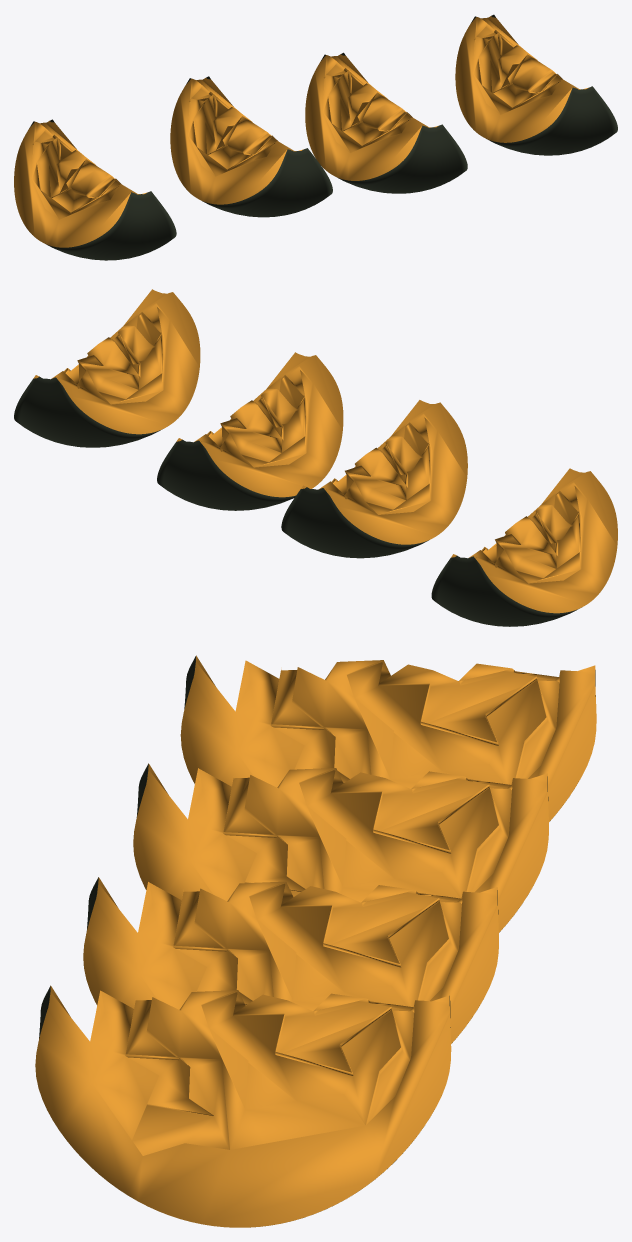
Rendered from Kalabasa_Quarters.glb.
3 renders of one model, top to bottom at view 1: azimuth 30°, elevation 25°; view 2: azimuth 150°, elevation 25°; view 3: azimuth 270°, elevation 25°, orthographic. The views are drawn at different scales.
Parts seen in each view (by area): view 1: Sphere.004, Sphere.001, Sphere.003, Sphere.002; view 2: Sphere.003, Sphere.004, Sphere.001, Sphere.002; view 3: Sphere.004, Sphere.001, Sphere.002, Sphere.003.
Part boxes in pixels (x1,y1,x2,y2): Sphere.004: (455,14,617,155); Sphere.001: (170,76,332,217); Sphere.003: (14,119,176,260); Sphere.002: (305,52,467,193); Sphere.003: (431,468,617,626); Sphere.004: (14,289,200,447); Sphere.001: (281,400,467,558); Sphere.002: (157,352,343,510); Sphere.004: (35,985,451,1227); Sphere.001: (133,763,548,932); Sphere.002: (83,877,498,1043); Sphere.003: (180,655,596,821).
Size of the model in its own units: 6.44 by 1.55 by 3.01.
